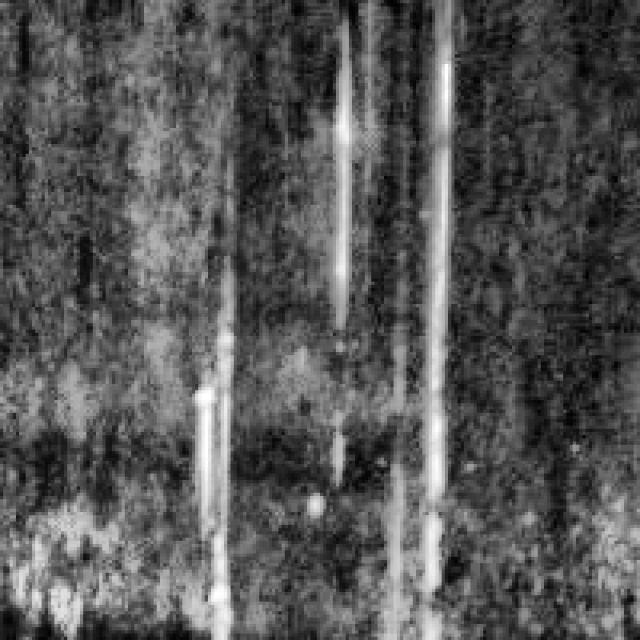Inclusion: (400, 29, 470, 592), (176, 307, 243, 637), (310, 41, 365, 332)
